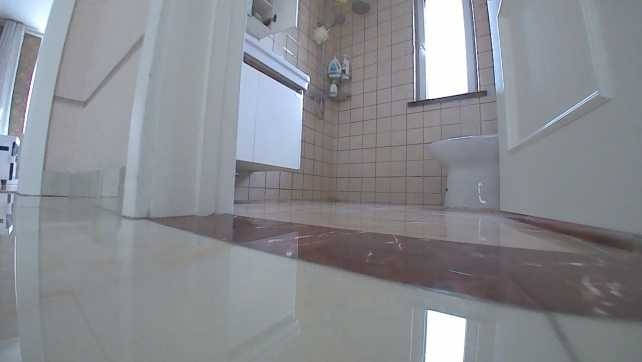door_anno: (485, 0, 641, 236)
toilet: (427, 134, 501, 210)
